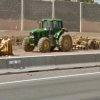Tractor: (16, 10, 74, 60)
